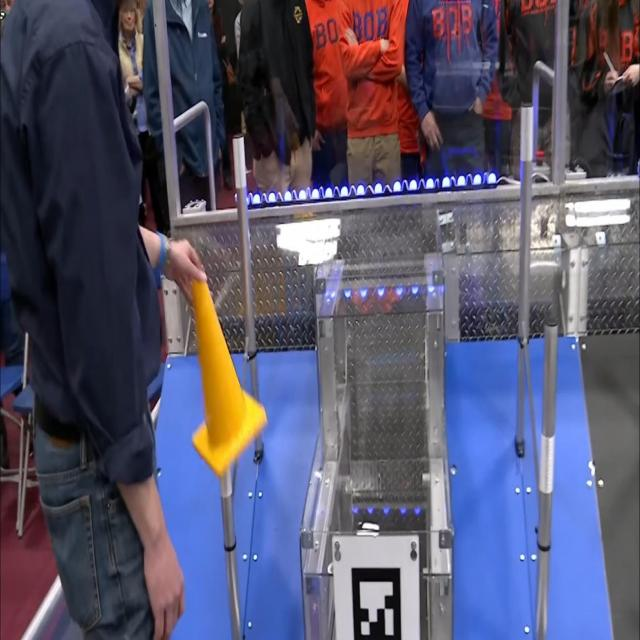frc_cone: (187, 270, 269, 473)
